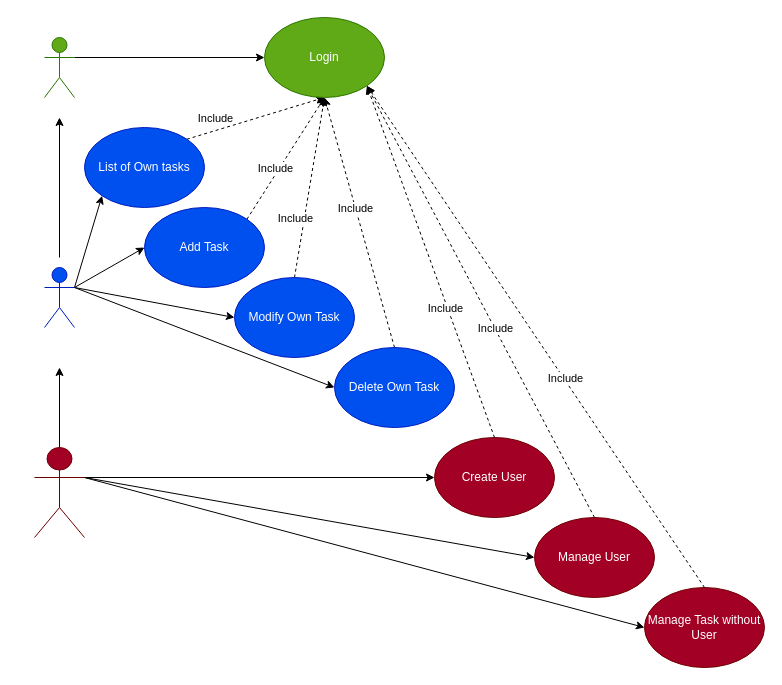
Some shapes in this 782 by 685 pixel diagram are drawn without their labels. The centre of each missing label's shape, as x and y in pixels:
"Administrator" belongs at (x=59, y=492).
"User(Registred)" belongs at (x=59, y=297).
"Visitor" belongs at (x=59, y=67).
